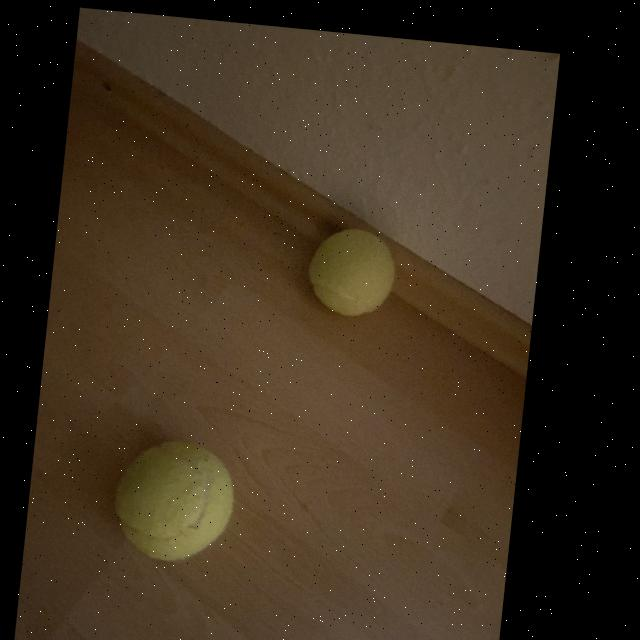Tennisball: (116, 442, 234, 561), (309, 229, 395, 316)
